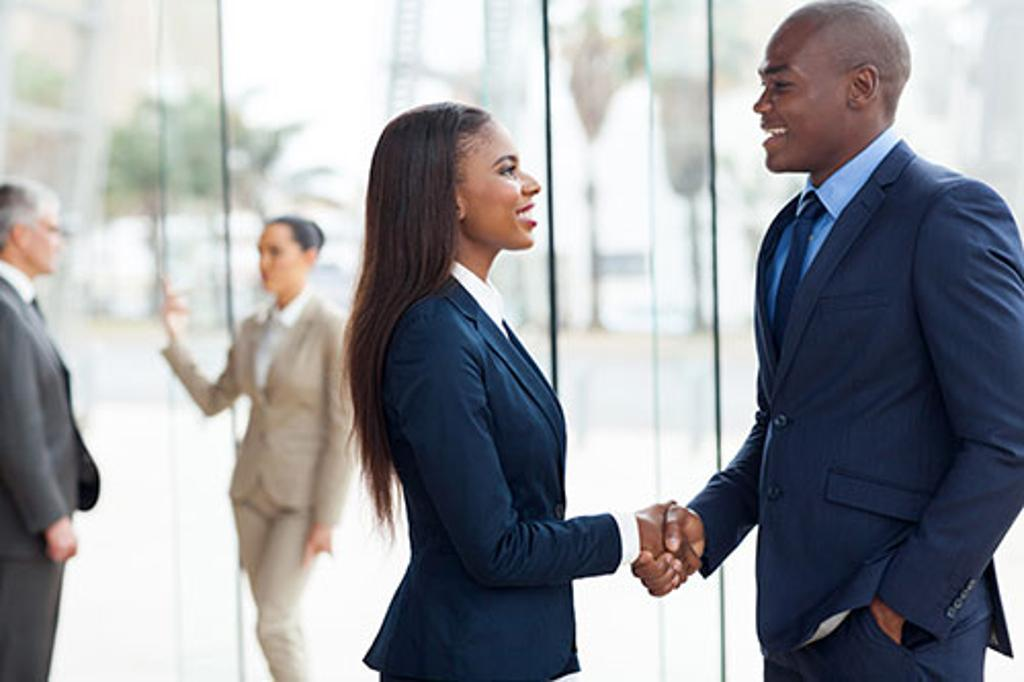face: (752, 25, 845, 173), (463, 131, 540, 249), (19, 207, 60, 272), (257, 227, 298, 291)
